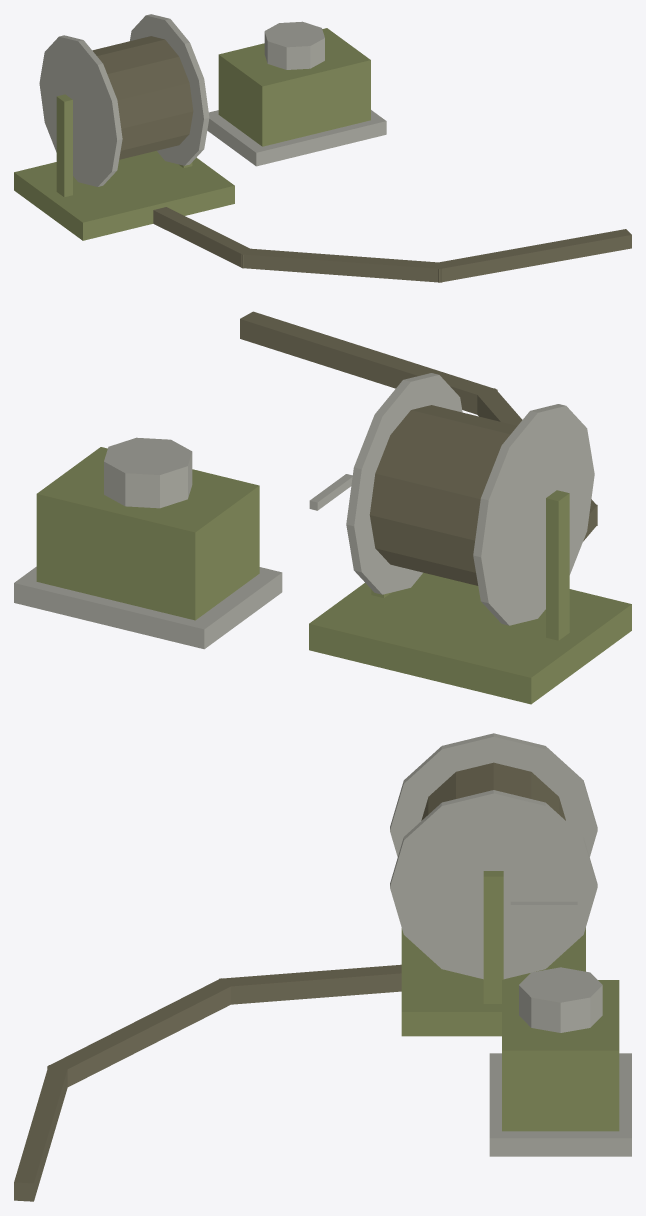
Rendered from SM_Carrete_v4_Bomba_LOD0.fbx.
3 views of the same model, one above another, from view 1: azimuth 30°, elevation 25°; view 2: azimuth 150°, elevation 25°; view 3: azimuth 270°, elevation 25° (orthographic). The views are drawn at different scales.
Parts seen in each view (by area): view 1: SM_farp_betera_v14_LOD0; view 2: SM_farp_betera_v14_LOD0; view 3: SM_farp_betera_v14_LOD0.
Boxes of the visible parts, x1,y1,x2,y2 form: SM_farp_betera_v14_LOD0: (14, 14, 631, 282); SM_farp_betera_v14_LOD0: (14, 311, 631, 704); SM_farp_betera_v14_LOD0: (14, 733, 631, 1201).
Bounding box in the file's own units: 3.74 × 1.47 × 3.69.
